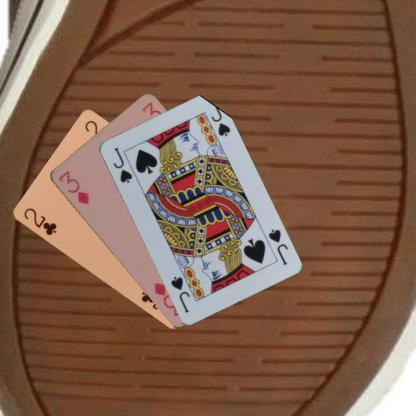2c: (21, 205, 58, 237)
3d: (56, 168, 90, 206)
Js: (265, 226, 289, 267), (110, 144, 133, 184)
